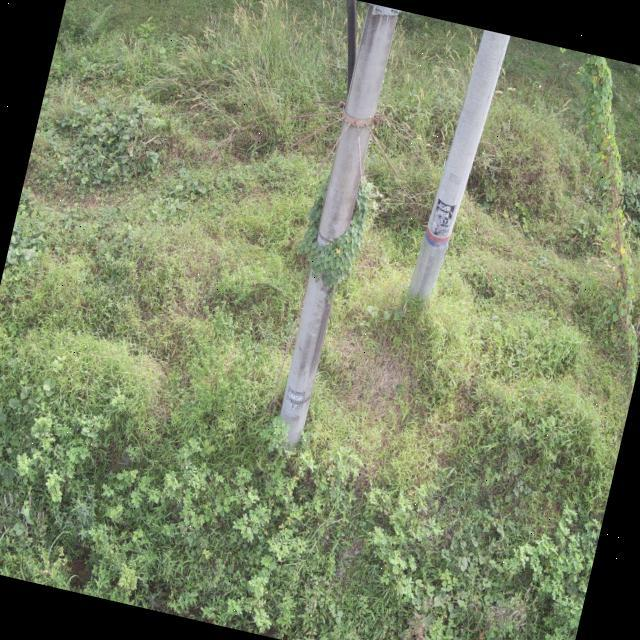critical vegetation: (509, 52, 640, 379), (274, 138, 396, 352)
